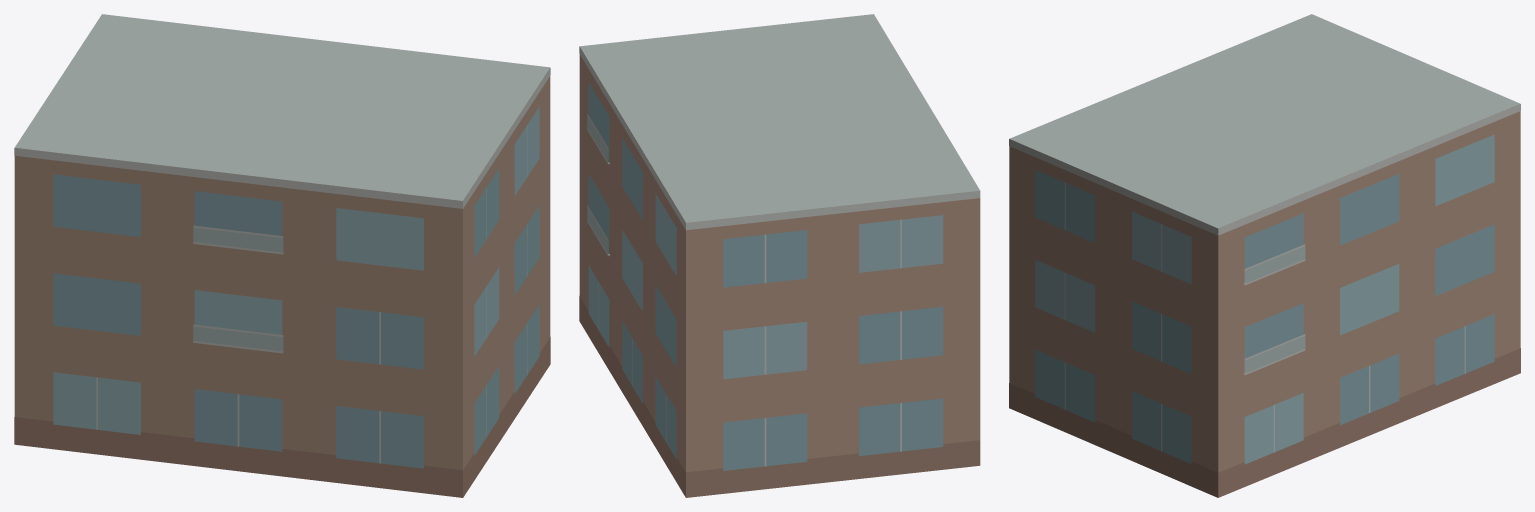
Rendered from survey-upis-32722290.glb.
3 views of the same model, side by side, from view 1: azimuth 30°, elevation 25°; view 2: azimuth 150°, elevation 25°; view 3: azimuth 270°, elevation 25° (orthographic). The views are drawn at different scales.
Visible parts, largest first — view 1: survey-upis-32722290.tmp; view 2: survey-upis-32722290.tmp; view 3: survey-upis-32722290.tmp.
Boxes of the visible parts, left/top/right/bottom form: survey-upis-32722290.tmp: left=14, top=14, right=550, bottom=497; survey-upis-32722290.tmp: left=579, top=14, right=980, bottom=497; survey-upis-32722290.tmp: left=1009, top=14, right=1520, bottom=497.
Size of the model in its own units: 15.63 by 9.15 by 15.75.
